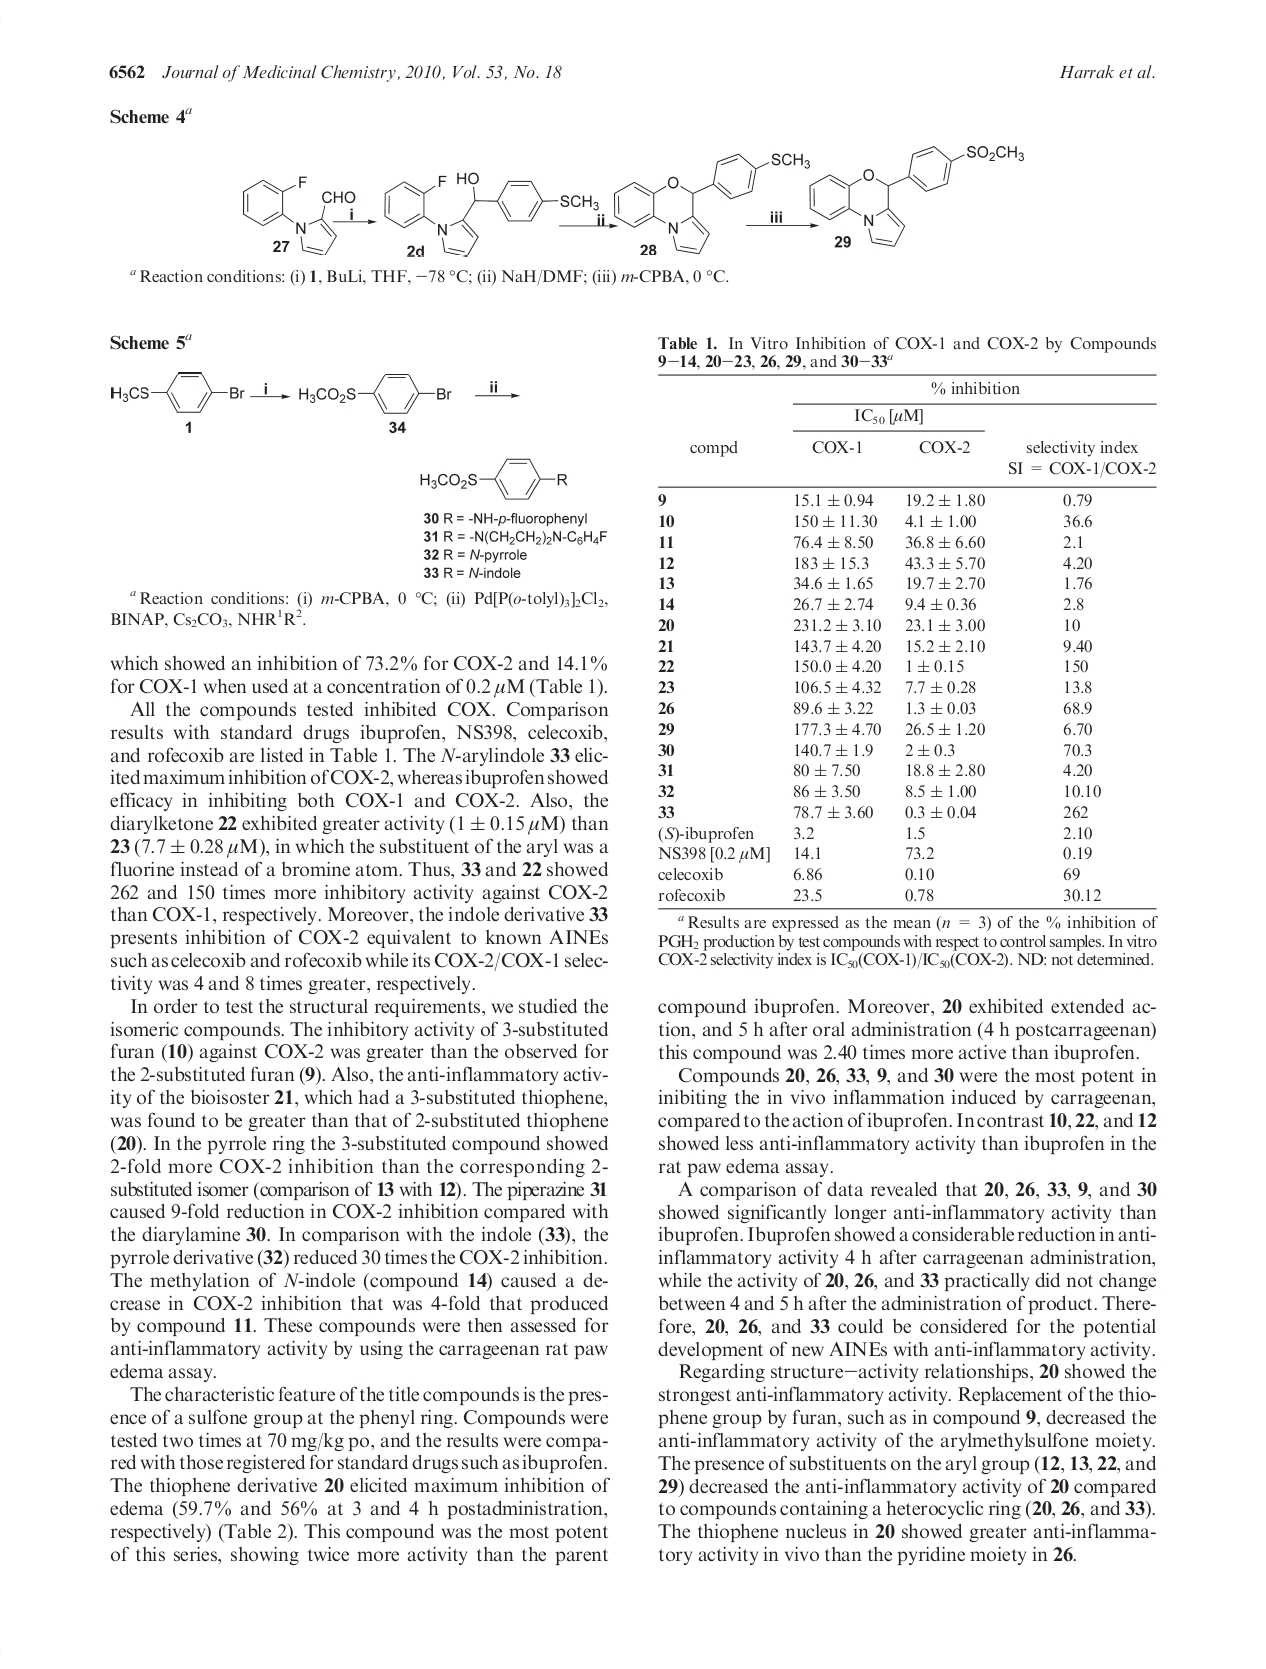exist_molecular: (807, 140, 1027, 246), (610, 148, 814, 253), (383, 172, 598, 255), (242, 172, 360, 254), (297, 371, 453, 418), (418, 456, 569, 500), (106, 370, 245, 414)
